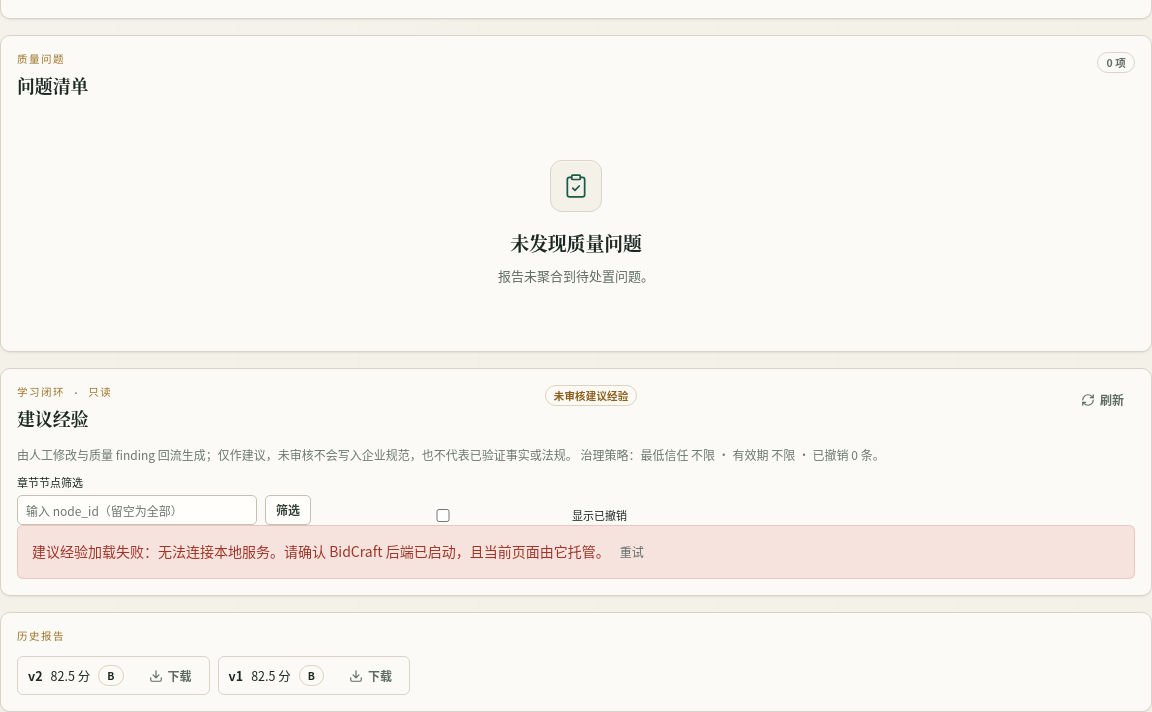
QualityTab 交互修复 › 历史详情加载失败时显示错误而不是旧 findings
(page scrolled)
Click the button "v1 82.5 分 B" at (276, 676), box top-left (218, 657), bottom-right (334, 694)
(page scrolled)
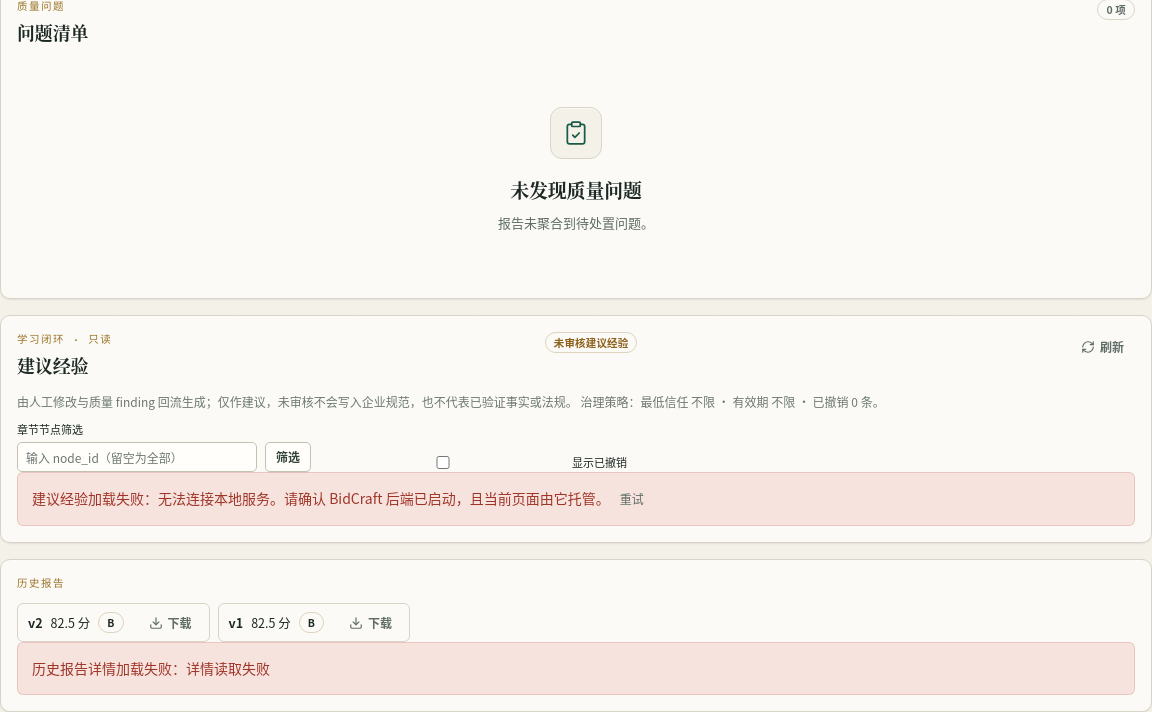
Check: the message reads "历史报告详情加载失败：详情读取失败", box top-left (17, 642), bottom-right (1135, 694)
